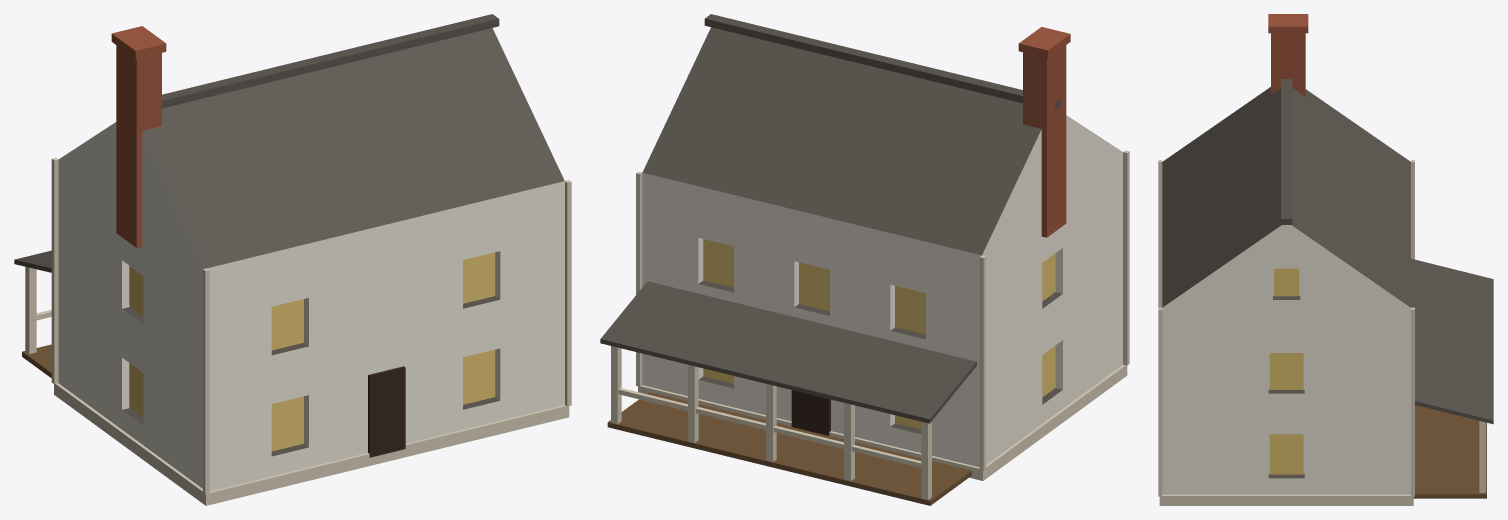
Rendered from farmhouse.glb.
3 renders of one model, left to right at view 1: azimuth 30°, elevation 25°; view 2: azimuth 150°, elevation 25°; view 3: azimuth 270°, elevation 25°, orthographic. The views are drawn at different scales.
Parts seen in each view (by area): view 1: wall, foundation, chimney, ridge_cap, door_rear, corner_2, window_06, window_07, corner_0, corner_1, window_08, window_09 (+4 smaller); view 2: wall, porch_roof, porch_floor, chimney, ridge_cap, foundation, rail, corner_0, corner_2, door, window_03, window_05 (+9 smaller); view 3: wall, porch_roof, porch_floor, foundation, chimney, ridge_cap, window_13, window_14, corner_1, chimney_cap, corner_3, window_15 (+3 smaller).
Boxes of the visible parts, bbox=[...] form: wall: bbox=[58, 28, 564, 491]; foundation: bbox=[54, 383, 569, 505]; chimney: bbox=[116, 45, 161, 247]; ridge_cap: bbox=[126, 14, 499, 115]; door_rear: bbox=[368, 366, 405, 457]; corner_2: bbox=[51, 157, 58, 384]; window_06: bbox=[271, 396, 303, 451]; window_07: bbox=[463, 349, 495, 404]; corner_0: bbox=[203, 268, 209, 494]; corner_1: bbox=[565, 180, 571, 406]; window_08: bbox=[271, 299, 303, 350]; window_09: bbox=[463, 252, 495, 303]; wall: bbox=[642, 27, 1122, 467]; porch_roof: bbox=[600, 281, 976, 423]; porch_floor: bbox=[607, 392, 971, 505]; chimney: bbox=[1023, 45, 1066, 237]; ridge_cap: bbox=[704, 14, 1060, 110]; foundation: bbox=[638, 364, 1127, 480]; rail: bbox=[618, 388, 921, 467]; corner_0: bbox=[1123, 150, 1129, 365]; corner_2: bbox=[979, 255, 985, 470]; door: bbox=[791, 390, 830, 435]; window_03: bbox=[895, 286, 925, 334]; window_05: bbox=[703, 239, 733, 287]; wall: bbox=[1162, 87, 1410, 494]; porch_roof: bbox=[1411, 258, 1493, 424]; porch_floor: bbox=[1413, 405, 1486, 498]; foundation: bbox=[1159, 494, 1413, 505]; chimney: bbox=[1271, 33, 1305, 96]; ridge_cap: bbox=[1281, 79, 1292, 224]; window_13: bbox=[1269, 434, 1303, 474]; window_14: bbox=[1269, 353, 1303, 389]; corner_1: bbox=[1158, 307, 1162, 496]; chimney_cap: bbox=[1268, 14, 1308, 33]; corner_3: bbox=[1411, 307, 1414, 496]; window_15: bbox=[1274, 268, 1299, 296].
Size of the model in its own units: 10.38 by 10.92 by 9.72.
